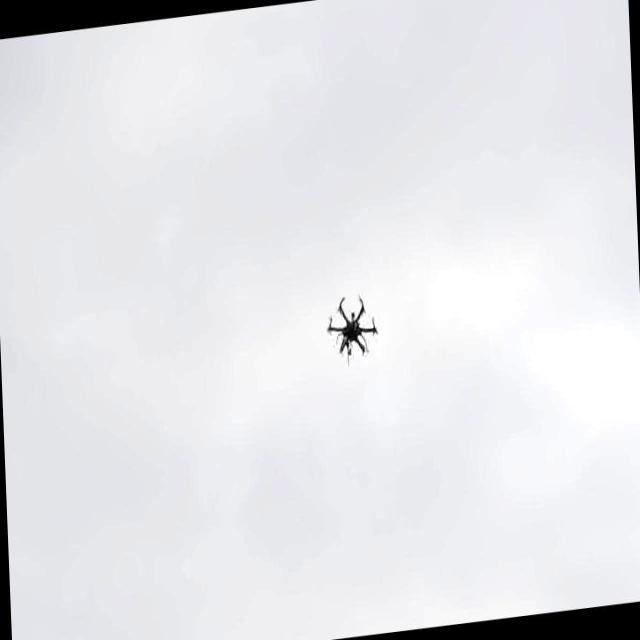drone: (322, 287, 381, 363)
